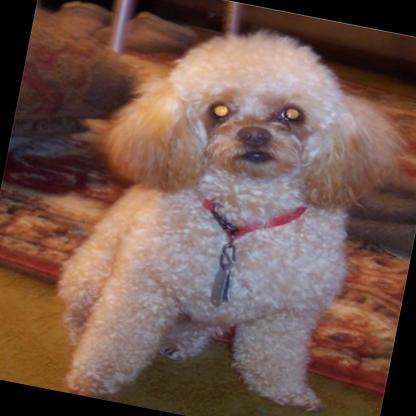miniature_poodle: (32, 0, 414, 416)
